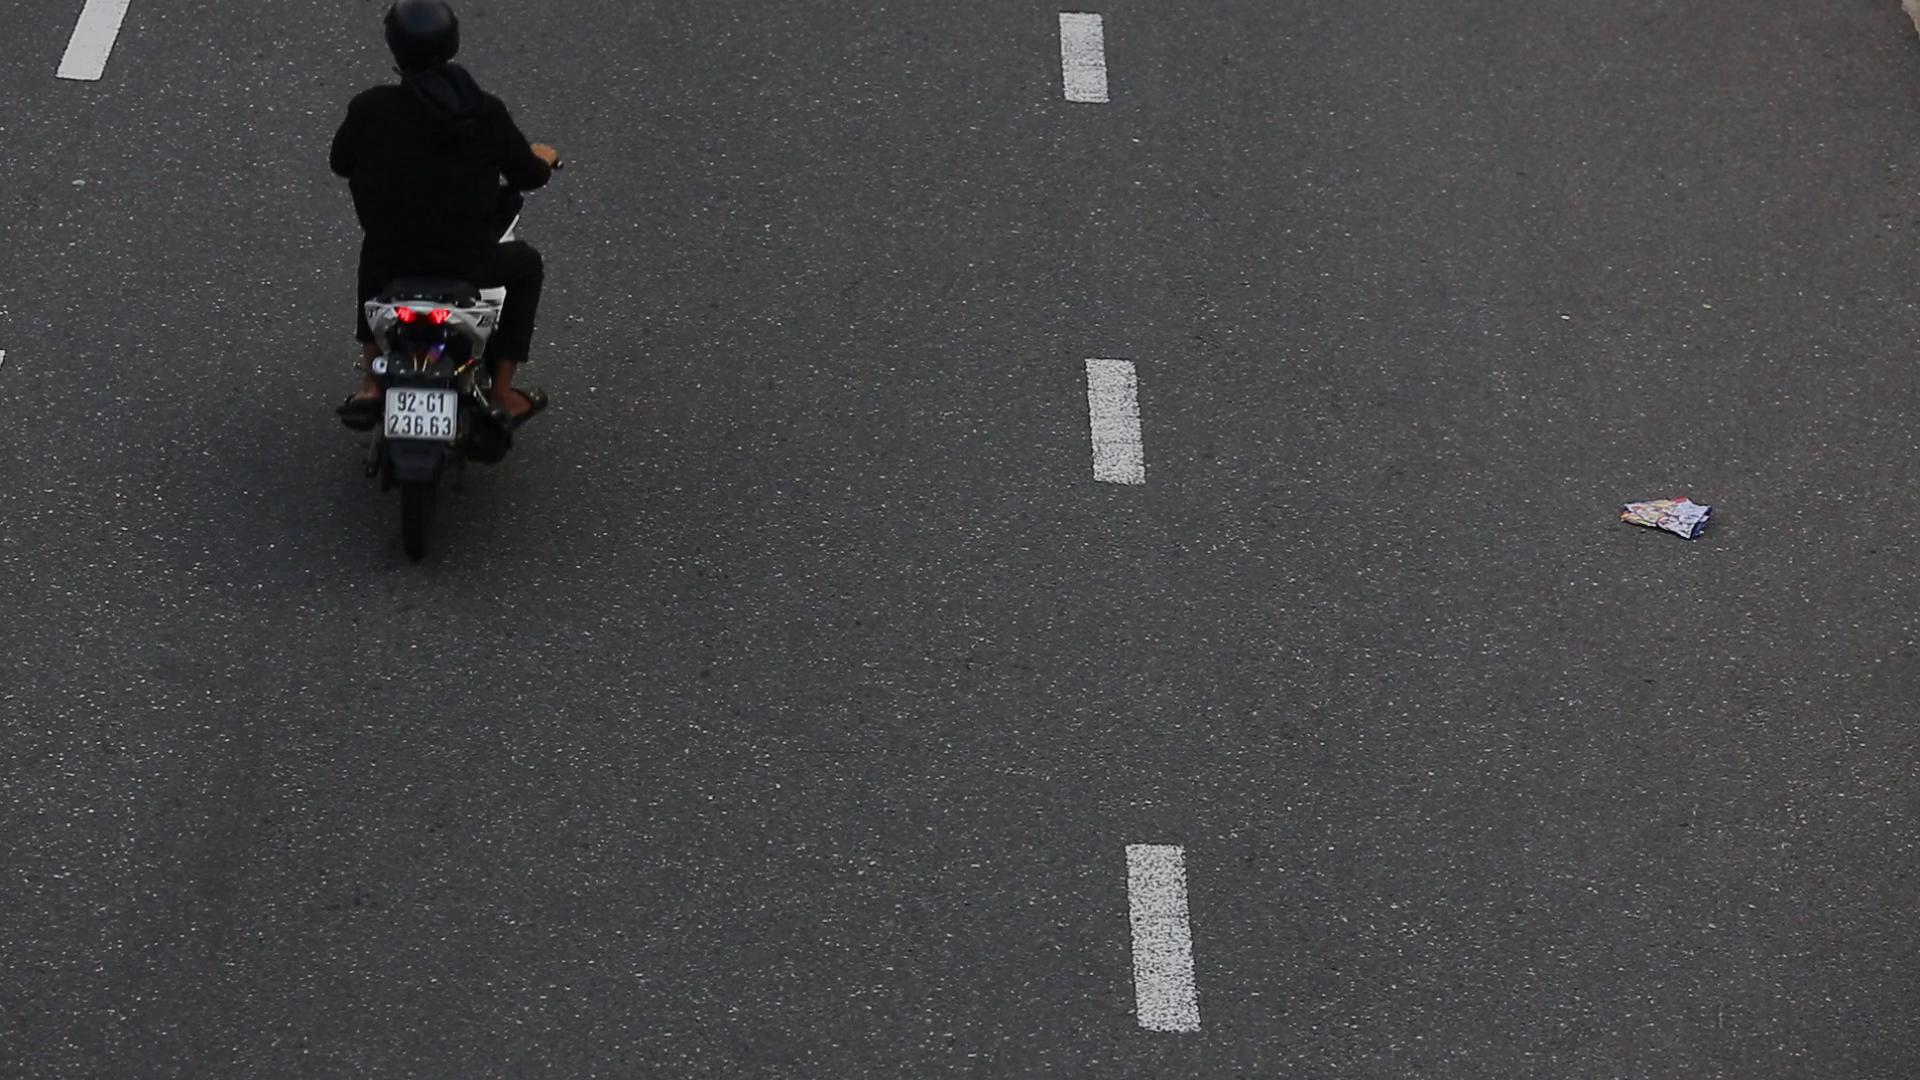motobike: (299, 0, 575, 575)
